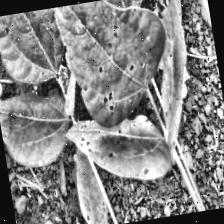ALS: (49, 0, 168, 124), (60, 100, 170, 198), (146, 0, 203, 141)
